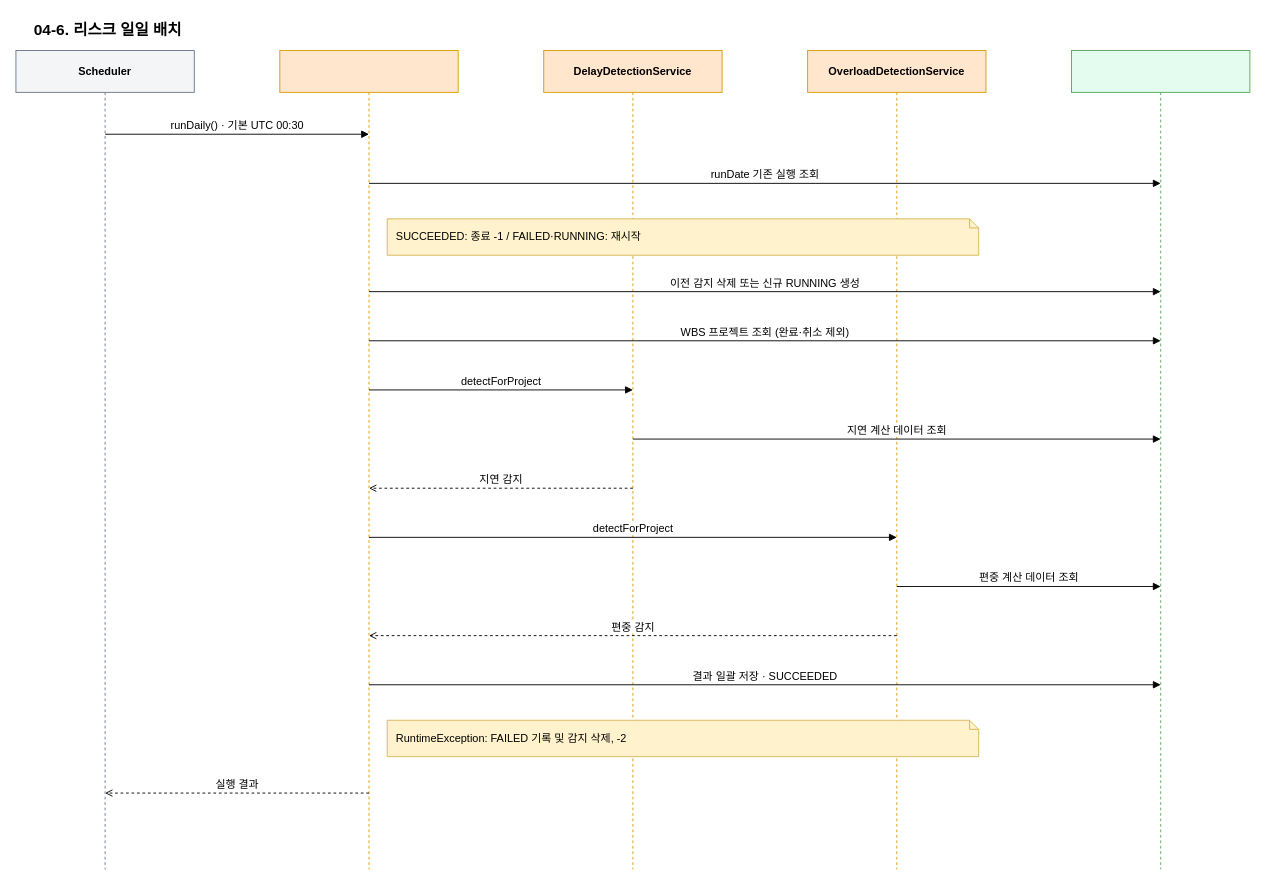
The diagram is 1266 pixels wide and 885 high, and some of its shapes have lost their labels. The box of each missing label's shape, as (x1, y1, x2, y2) in pixels:
PostgreSQL: (1071, 50, 1250, 870)
RiskAnalysisRunner: (279, 50, 458, 870)
